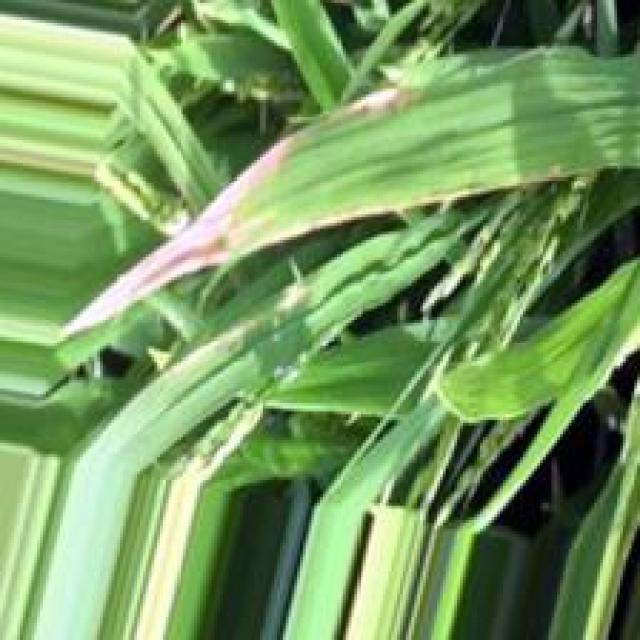Unhealthy: (60, 136, 291, 335), (244, 171, 591, 253), (347, 88, 414, 114)
